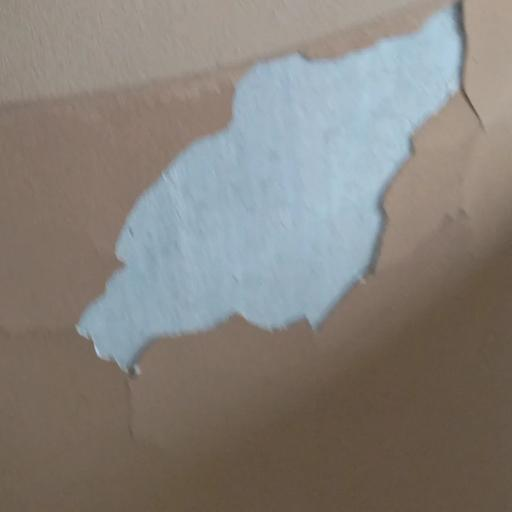peeling: (56, 0, 498, 392)
